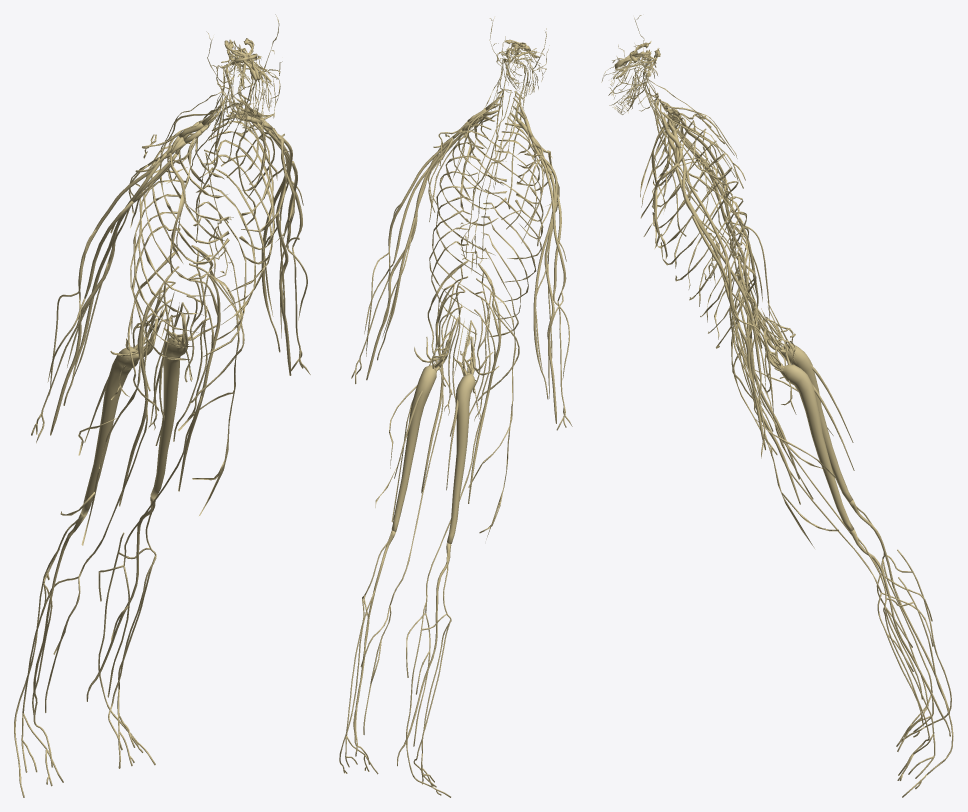
Rendered from atlas_nervous_mni152.peripheral.LOD3.glb.
3 views of the same model, side by side, from view 1: azimuth 30°, elevation 25°; view 2: azimuth 150°, elevation 25°; view 3: azimuth 270°, elevation 25° (orthographic). The views are drawn at different scales.
Parts seen in each view (by area): view 1: ATLAS.NERVOUS.MNI152.PERIPHERAL.INTERCOSTAL_NERVES_RIGHT.R, ATLAS.NERVOUS.MNI152.PERIPHERAL.INTERCOSTAL_NERVES_LEFT.L, ATLAS.NERVOUS.MNI152.PERIPHERAL.SCIATIC_NERVE_RIGHT.R, ATLAS.NERVOUS.MNI152.PERIPHERAL.SCIATIC_NERVE_LEFT.L, ATLAS.NERVOUS.MNI152.PERIPHERAL.LUMBOSACRAL_PLEXUS_PROXIMAL_ (×2), ATLAS.NERVOUS.MNI152.PERIPHERAL.MEDIAL_AND_LATERAL_PECTORAL_ (×2), ATLAS.NERVOUS.MNI152.PERIPHERAL.LATERAL_FEMORAL_CUTANEOUS_NE (×2), ATLAS.NERVOUS.MNI152.PERIPHERAL.MEDIAN_NERVE_RIGHT.R, ATLAS.NERVOUS.MNI152.PERIPHERAL.FEMORAL_NERVE_LEFT.L, ATLAS.NERVOUS.MNI152.PERIPHERAL.SAPHENOUS_NERVE_LEFT.L, ATLAS.NERVOUS.MNI152.PERIPHERAL.FEMORAL_NERVE_RIGHT.R, ATLAS.NERVOUS.MNI152.PERIPHERAL.MEDIAN_NERVE_LEFT.L (+13 smaller); view 2: ATLAS.NERVOUS.MNI152.PERIPHERAL.INTERCOSTAL_NERVES_LEFT.L, ATLAS.NERVOUS.MNI152.PERIPHERAL.INTERCOSTAL_NERVES_RIGHT.R, ATLAS.NERVOUS.MNI152.PERIPHERAL.SCIATIC_NERVE_RIGHT.R, ATLAS.NERVOUS.MNI152.PERIPHERAL.SCIATIC_NERVE_LEFT.L, ATLAS.NERVOUS.MNI152.PERIPHERAL.LUMBOSACRAL_PLEXUS_PROXIMAL_ (×2), ATLAS.NERVOUS.MNI152.PERIPHERAL.LATERAL_FEMORAL_CUTANEOUS_NE (×2), ATLAS.NERVOUS.MNI152.PERIPHERAL.SAPHENOUS_NERVE_LEFT.L, ATLAS.NERVOUS.MNI152.PERIPHERAL.FEMORAL_NERVE_RIGHT.R, ATLAS.NERVOUS.MNI152.PERIPHERAL.SAPHENOUS_NERVE_RIGHT.R, ATLAS.NERVOUS.MNI152.PERIPHERAL.MEDIAN_NERVE_RIGHT.R, ATLAS.NERVOUS.MNI152.PERIPHERAL.FEMORAL_NERVE_LEFT.L, ATLAS.NERVOUS.MNI152.PERIPHERAL.ULNAR_NERVE_RIGHT.R (+9 smaller); view 3: ATLAS.NERVOUS.MNI152.PERIPHERAL.SCIATIC_NERVE_LEFT.L, ATLAS.NERVOUS.MNI152.PERIPHERAL.INTERCOSTAL_NERVES_LEFT.L, ATLAS.NERVOUS.MNI152.PERIPHERAL.INTERCOSTAL_NERVES_RIGHT.R, ATLAS.NERVOUS.MNI152.PERIPHERAL.SCIATIC_NERVE_RIGHT.R, ATLAS.NERVOUS.MNI152.PERIPHERAL.SAPHENOUS_NERVE_RIGHT.R, ATLAS.NERVOUS.MNI152.PERIPHERAL.LUMBOSACRAL_PLEXUS_PROXIMAL_, ATLAS.NERVOUS.MNI152.PERIPHERAL.SAPHENOUS_NERVE_LEFT.L, ATLAS.NERVOUS.MNI152.PERIPHERAL.LATERAL_FEMORAL_CUTANEOUS_NE, ATLAS.NERVOUS.MNI152.PERIPHERAL.MEDIAN_NERVE_LEFT.L, ATLAS.NERVOUS.MNI152.PERIPHERAL.ULNAR_NERVE_LEFT.L, ATLAS.NERVOUS.MNI152.PERIPHERAL.TIBIAL_NERVE_LEFT.L, ATLAS.NERVOUS.MNI152.PERIPHERAL.FEMORAL_NERVE_LEFT.L (+1 smaller).
Part boxes in pixels (x1=…): ATLAS.NERVOUS.MNI152.PERIPHERAL.INTERCOSTAL_NERVES_RIGHT.R: x1=130, y1=123, x2=229, y2=360; ATLAS.NERVOUS.MNI152.PERIPHERAL.INTERCOSTAL_NERVES_LEFT.L: x1=193, y1=115, x2=274, y2=356; ATLAS.NERVOUS.MNI152.PERIPHERAL.SCIATIC_NERVE_RIGHT.R: x1=81, y1=320, x2=156, y2=515; ATLAS.NERVOUS.MNI152.PERIPHERAL.SCIATIC_NERVE_LEFT.L: x1=151, y1=314, x2=188, y2=498; ATLAS.NERVOUS.MNI152.PERIPHERAL.LUMBOSACRAL_PLEXUS_PROXIMAL_ (×2): x1=111, y1=245, x2=244, y2=410; ATLAS.NERVOUS.MNI152.PERIPHERAL.MEDIAL_AND_LATERAL_PECTORAL_ (×2): x1=166, y1=121, x2=295, y2=271; ATLAS.NERVOUS.MNI152.PERIPHERAL.LATERAL_FEMORAL_CUTANEOUS_NE (×2): x1=60, y1=274, x2=239, y2=545; ATLAS.NERVOUS.MNI152.PERIPHERAL.MEDIAN_NERVE_RIGHT.R: x1=50, y1=152, x2=166, y2=435; ATLAS.NERVOUS.MNI152.PERIPHERAL.FEMORAL_NERVE_LEFT.L: x1=178, y1=263, x2=220, y2=491; ATLAS.NERVOUS.MNI152.PERIPHERAL.SAPHENOUS_NERVE_LEFT.L: x1=98, y1=395, x2=201, y2=697; ATLAS.NERVOUS.MNI152.PERIPHERAL.FEMORAL_NERVE_RIGHT.R: x1=119, y1=266, x2=179, y2=506; ATLAS.NERVOUS.MNI152.PERIPHERAL.MEDIAN_NERVE_LEFT.L: x1=269, y1=129, x2=292, y2=375; ATLAS.NERVOUS.MNI152.PERIPHERAL.INTERCOSTAL_NERVES_LEFT.L: x1=429, y1=119, x2=506, y2=334; ATLAS.NERVOUS.MNI152.PERIPHERAL.INTERCOSTAL_NERVES_RIGHT.R: x1=479, y1=123, x2=543, y2=336; ATLAS.NERVOUS.MNI152.PERIPHERAL.SCIATIC_NERVE_RIGHT.R: x1=447, y1=336, x2=475, y2=544; ATLAS.NERVOUS.MNI152.PERIPHERAL.SCIATIC_NERVE_LEFT.L: x1=391, y1=334, x2=449, y2=531; ATLAS.NERVOUS.MNI152.PERIPHERAL.LUMBOSACRAL_PLEXUS_PROXIMAL_ (×2): x1=414, y1=260, x2=519, y2=416; ATLAS.NERVOUS.MNI152.PERIPHERAL.LATERAL_FEMORAL_CUTANEOUS_NE (×2): x1=375, y1=283, x2=516, y2=539; ATLAS.NERVOUS.MNI152.PERIPHERAL.SAPHENOUS_NERVE_LEFT.L: x1=360, y1=390, x2=443, y2=734; ATLAS.NERVOUS.MNI152.PERIPHERAL.FEMORAL_NERVE_RIGHT.R: x1=468, y1=278, x2=501, y2=503; ATLAS.NERVOUS.MNI152.PERIPHERAL.SAPHENOUS_NERVE_RIGHT.R: x1=406, y1=408, x2=483, y2=746; ATLAS.NERVOUS.MNI152.PERIPHERAL.MEDIAN_NERVE_RIGHT.R: x1=539, y1=152, x2=557, y2=423; ATLAS.NERVOUS.MNI152.PERIPHERAL.FEMORAL_NERVE_LEFT.L: x1=421, y1=276, x2=467, y2=493; ATLAS.NERVOUS.MNI152.PERIPHERAL.ULNAR_NERVE_RIGHT.R: x1=533, y1=148, x2=555, y2=399; ATLAS.NERVOUS.MNI152.PERIPHERAL.SCIATIC_NERVE_LEFT.L: x1=764, y1=330, x2=853, y2=531; ATLAS.NERVOUS.MNI152.PERIPHERAL.INTERCOSTAL_NERVES_LEFT.L: x1=652, y1=127, x2=750, y2=348; ATLAS.NERVOUS.MNI152.PERIPHERAL.INTERCOSTAL_NERVES_RIGHT.R: x1=652, y1=117, x2=748, y2=339; ATLAS.NERVOUS.MNI152.PERIPHERAL.SCIATIC_NERVE_RIGHT.R: x1=764, y1=320, x2=852, y2=502; ATLAS.NERVOUS.MNI152.PERIPHERAL.SAPHENOUS_NERVE_RIGHT.R: x1=756, y1=381, x2=932, y2=699; ATLAS.NERVOUS.MNI152.PERIPHERAL.LUMBOSACRAL_PLEXUS_PROXIMAL_: x1=732, y1=259, x2=796, y2=414; ATLAS.NERVOUS.MNI152.PERIPHERAL.SAPHENOUS_NERVE_LEFT.L: x1=761, y1=417, x2=933, y2=726; ATLAS.NERVOUS.MNI152.PERIPHERAL.LATERAL_FEMORAL_CUTANEOUS_NE: x1=731, y1=295, x2=838, y2=548; ATLAS.NERVOUS.MNI152.PERIPHERAL.MEDIAN_NERVE_LEFT.L: x1=682, y1=166, x2=765, y2=450; ATLAS.NERVOUS.MNI152.PERIPHERAL.ULNAR_NERVE_LEFT.L: x1=674, y1=162, x2=763, y2=421; ATLAS.NERVOUS.MNI152.PERIPHERAL.TIBIAL_NERVE_LEFT.L: x1=850, y1=529, x2=950, y2=736; ATLAS.NERVOUS.MNI152.PERIPHERAL.FEMORAL_NERVE_LEFT.L: x1=738, y1=278, x2=800, y2=504.
Size of the model in its own units: 0.5893 by 1.77 by 0.7596.
